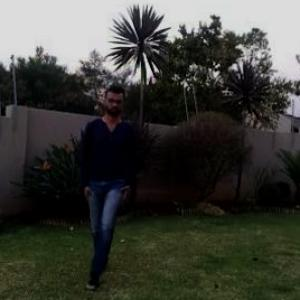follow: (68, 67, 144, 290)
